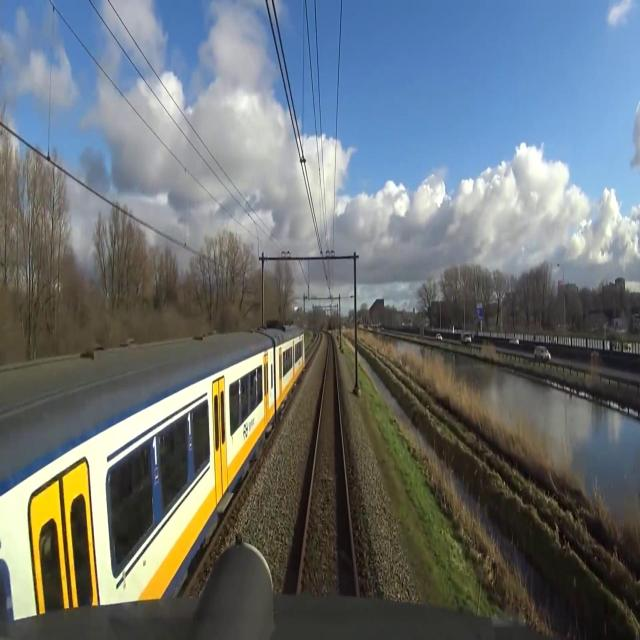rail-track: (301, 337, 354, 588), (305, 334, 319, 363)
